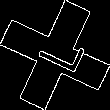L_NW: (26, 31, 84, 79)
